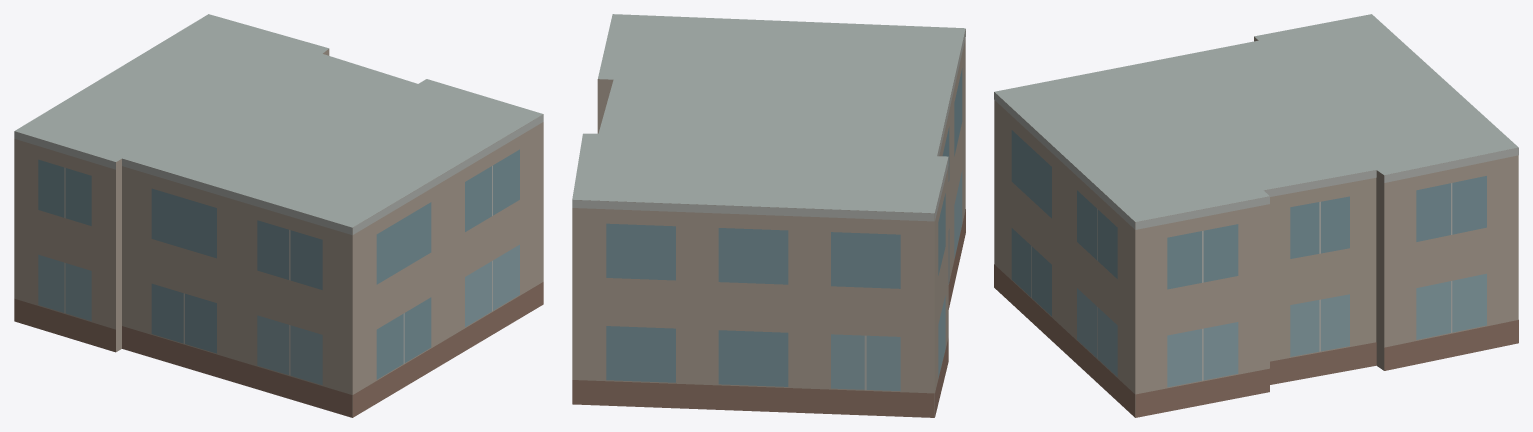
File: survey-upis-32939859.glb
The picture shows the model from 3 angles, left to right: view 1: azimuth 30°, elevation 25°; view 2: azimuth 150°, elevation 25°; view 3: azimuth 270°, elevation 25°; orthographic projection. The views are drawn at different scales.
Parts seen in each view (by area): view 1: survey-upis-32939859.tmp; view 2: survey-upis-32939859.tmp; view 3: survey-upis-32939859.tmp.
Boxes of the visible parts, box(x1,y1,x2,y2) form: survey-upis-32939859.tmp: box(14, 14, 543, 417); survey-upis-32939859.tmp: box(572, 14, 965, 417); survey-upis-32939859.tmp: box(994, 14, 1518, 417).
Bounding box in the file's own units: 13.92 × 6.1 × 14.83.
